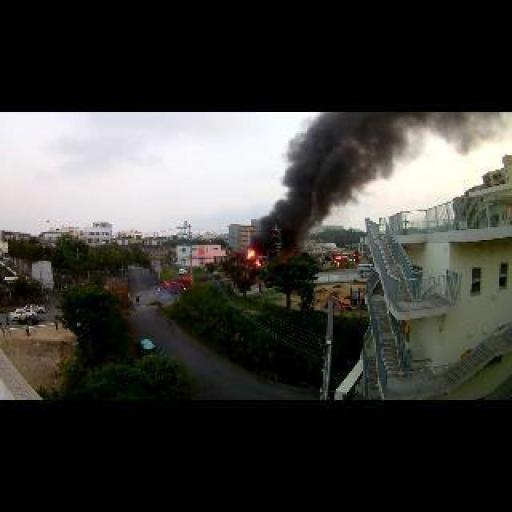smoke: (282, 108, 408, 198), (250, 184, 328, 256), (410, 108, 510, 162), (245, 250, 256, 258), (253, 259, 259, 264)
